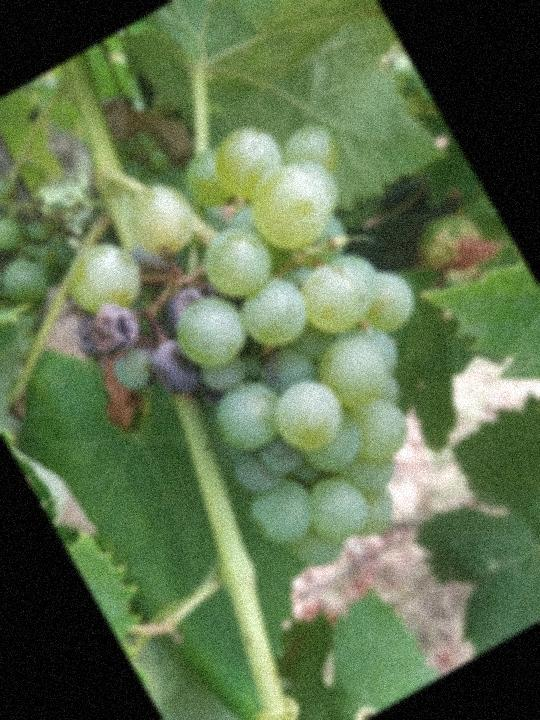grape: (21, 89, 513, 622)
